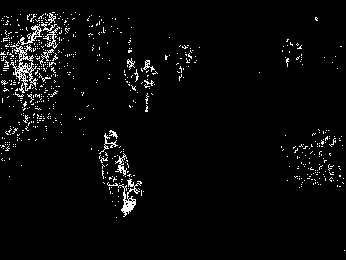person: (98, 128, 143, 218), (139, 59, 158, 111), (122, 56, 139, 110)
